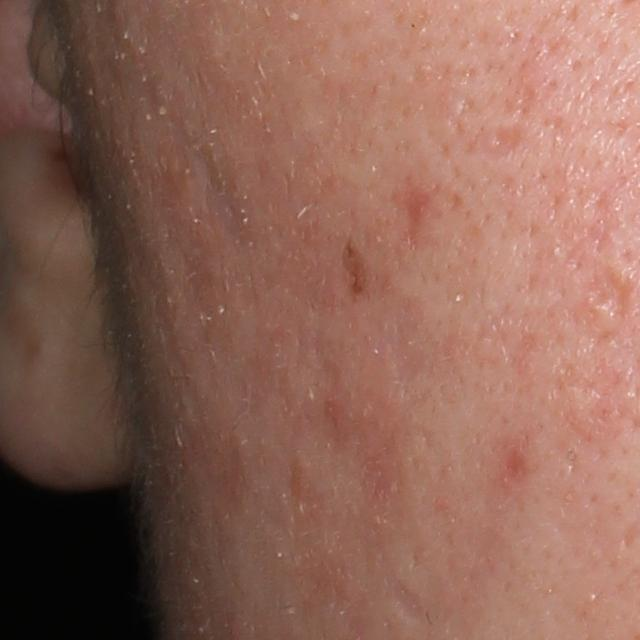atrophic_scar: (187, 128, 257, 257), (395, 173, 435, 254), (381, 569, 433, 623), (475, 118, 527, 163)
